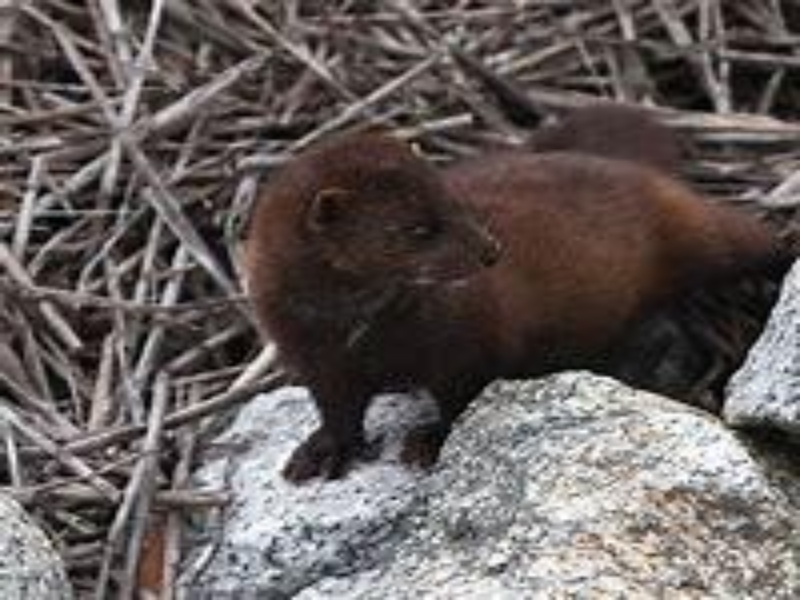minkish: (234, 128, 797, 489)
